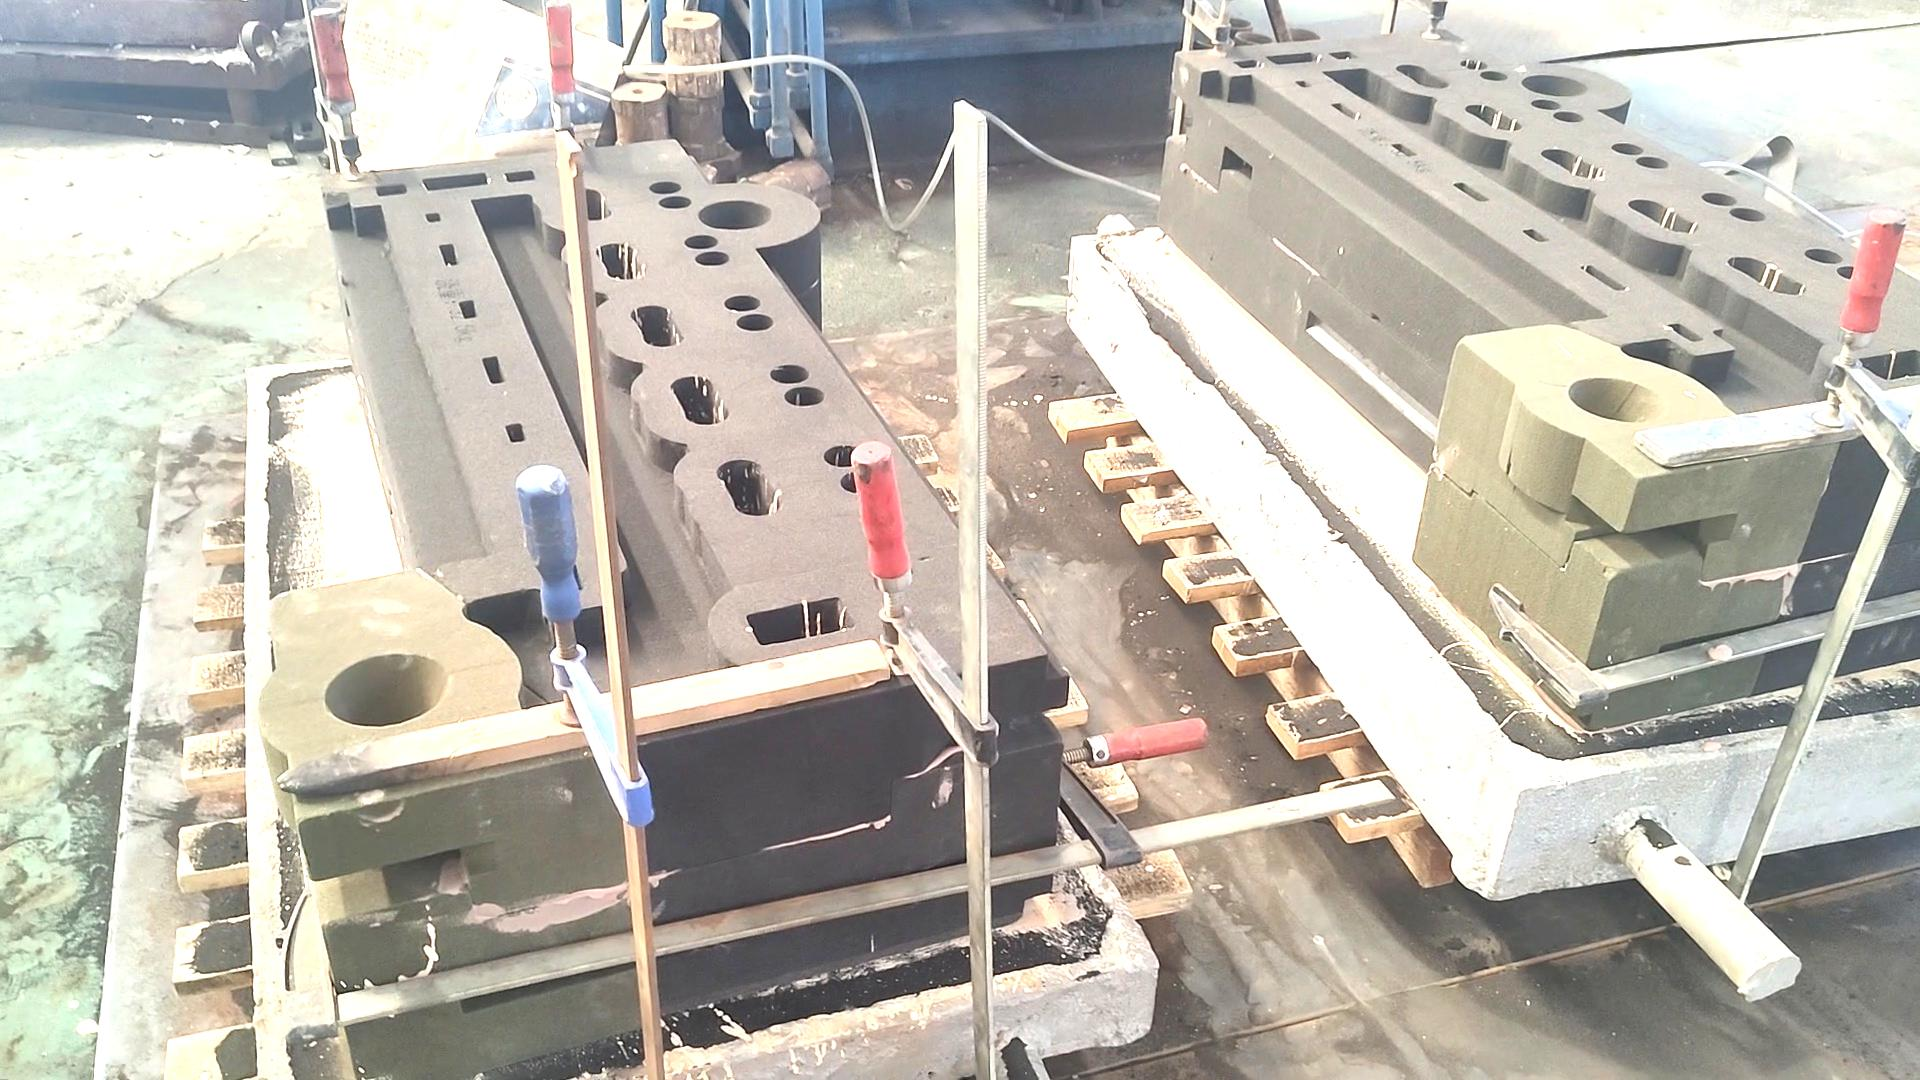pouring hole: (323, 651, 448, 728), (1571, 377, 1665, 425), (698, 199, 773, 229), (1522, 75, 1588, 98), (1274, 26, 1323, 41), (1212, 16, 1251, 30), (1236, 30, 1273, 45), (1203, 37, 1234, 47)
